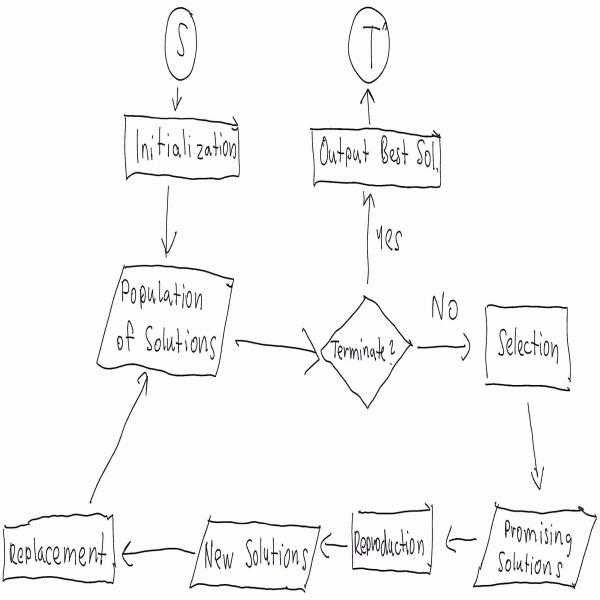arrow: (93, 369, 159, 522), (231, 326, 319, 381), (122, 527, 194, 569), (414, 331, 480, 371), (526, 400, 550, 492), (445, 516, 483, 560), (361, 194, 377, 286), (317, 525, 346, 564), (160, 187, 173, 261)
data: (97, 264, 236, 380), (475, 505, 596, 588), (188, 515, 320, 590)
decision: (316, 294, 414, 413)
process: (124, 111, 240, 179), (310, 128, 440, 188), (488, 300, 571, 392), (4, 515, 113, 584), (353, 509, 430, 582)
terminator: (347, 10, 393, 84), (164, 7, 200, 80)
text: (121, 278, 221, 362), (206, 531, 307, 587), (135, 123, 236, 167), (500, 514, 573, 572), (497, 320, 570, 375), (319, 134, 437, 168), (12, 533, 105, 571), (354, 521, 427, 565), (334, 332, 397, 370), (431, 294, 461, 330), (362, 19, 379, 66), (176, 12, 190, 60)
